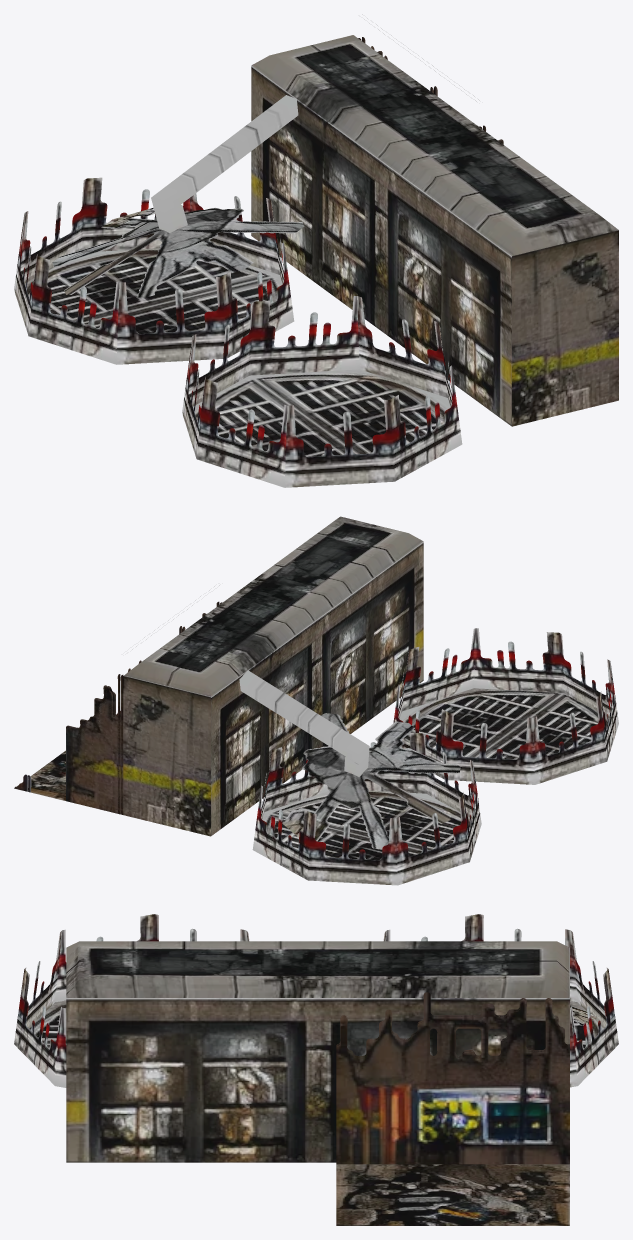
Rendered from purificationplant_dam_hdtex.glb.
The picture shows the model from 3 angles, top to bottom: view 1: azimuth 30°, elevation 25°; view 2: azimuth 150°, elevation 25°; view 3: azimuth 270°, elevation 25°; orthographic projection. The views are drawn at different scales.
Visible parts, largest first — view 1: PurificationPlantDam; view 2: PurificationPlantDam; view 3: PurificationPlantDam.
Part boxes in pixels (x1,y1,x2,y2): PurificationPlantDam: (14,14,618,487); PurificationPlantDam: (14,516,618,885); PurificationPlantDam: (14,914,618,1225).
Bounding box in the file's own units: 15.15 × 5.52 × 16.08.
Materials: 1 (1 with a texture image).
